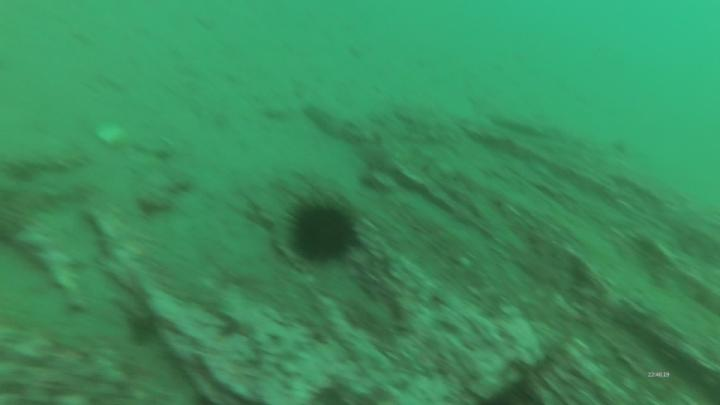echinus: (283, 196, 363, 267)
